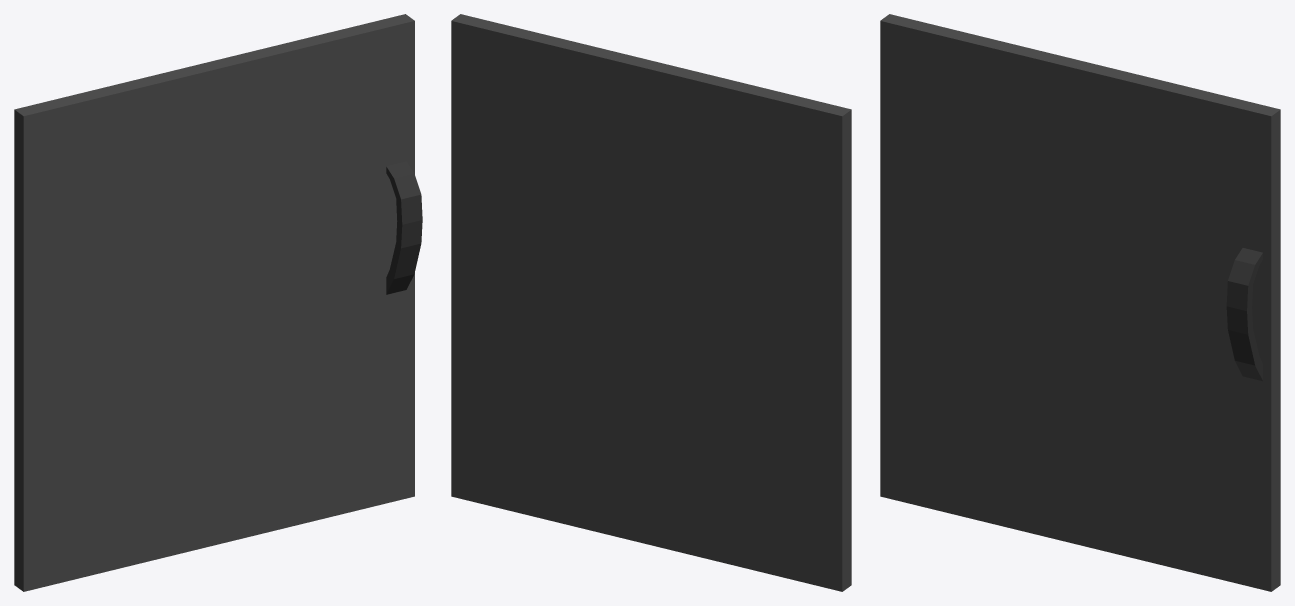
Rendered from Expositor_Glass_Door_1.fbx.
The picture shows the model from 3 angles, left to right: view 1: azimuth 30°, elevation 25°; view 2: azimuth 150°, elevation 25°; view 3: azimuth 330°, elevation 25°; orthographic projection.
Parts seen in each view (by area): view 1: Expositor Glass Door 1; view 2: Expositor Glass Door 1; view 3: Expositor Glass Door 1.
Part boxes in pixels (bbox=[...]): Expositor Glass Door 1: bbox=[14, 14, 422, 591]; Expositor Glass Door 1: bbox=[451, 14, 851, 591]; Expositor Glass Door 1: bbox=[880, 14, 1280, 591].
Bounding box in the file's own units: 66.2 × 76.89 × 7.45.
